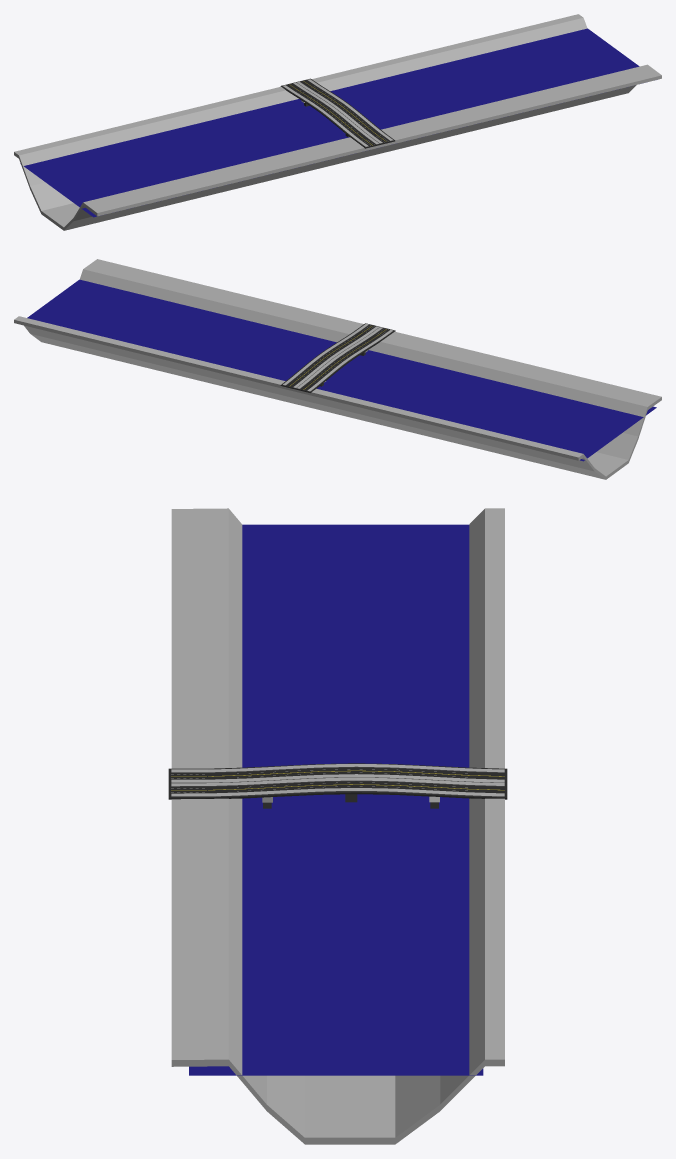
The model's file is PuenteCanal.fbx.
3 views of the same model, one above another, from view 1: azimuth 30°, elevation 25°; view 2: azimuth 150°, elevation 25°; view 3: azimuth 270°, elevation 25° (orthographic). The views are drawn at different scales.
Visible parts, largest first — view 1: Plane, Cube.016, Plane.001, Plane.094; view 2: Plane, Cube.016, Plane.001, Plane.094; view 3: Plane, Cube.016, Plane.094, Plane.001.
Boxes of the visible parts, box(x1,y1,x2,y2) form: Plane: box(20, 28, 639, 217); Cube.016: box(14, 14, 661, 230); Plane.001: box(280, 82, 379, 148); Plane.094: box(296, 78, 395, 144); Plane: box(27, 279, 656, 461); Cube.016: box(14, 259, 661, 479); Plane.001: box(295, 326, 395, 392); Plane.094: box(280, 323, 379, 388); Plane: box(189, 524, 483, 1075); Cube.016: box(171, 508, 504, 1144); Plane.094: box(168, 777, 507, 799); Plane.001: box(168, 763, 507, 784).
Bounding box in the file's own units: 140555 × 10889 × 36497.
